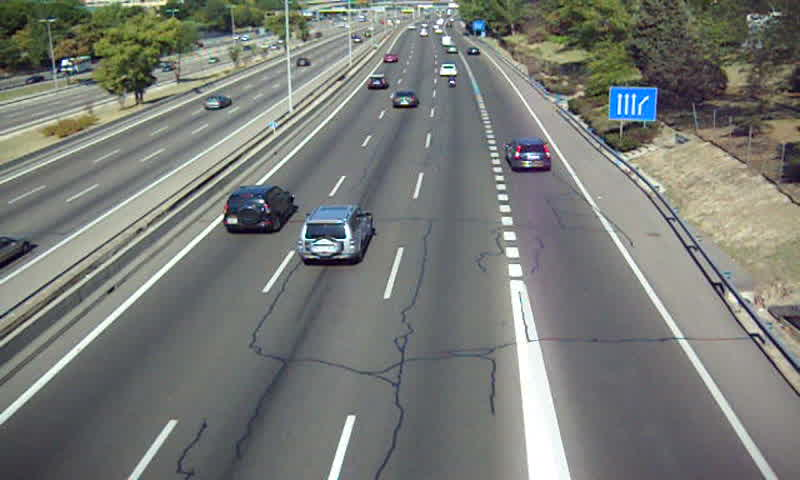car: (299, 207, 371, 264), (224, 185, 293, 233), (507, 140, 550, 169), (391, 89, 420, 108), (367, 72, 389, 90), (438, 62, 457, 75)
motorcycle: (446, 76, 458, 88)
